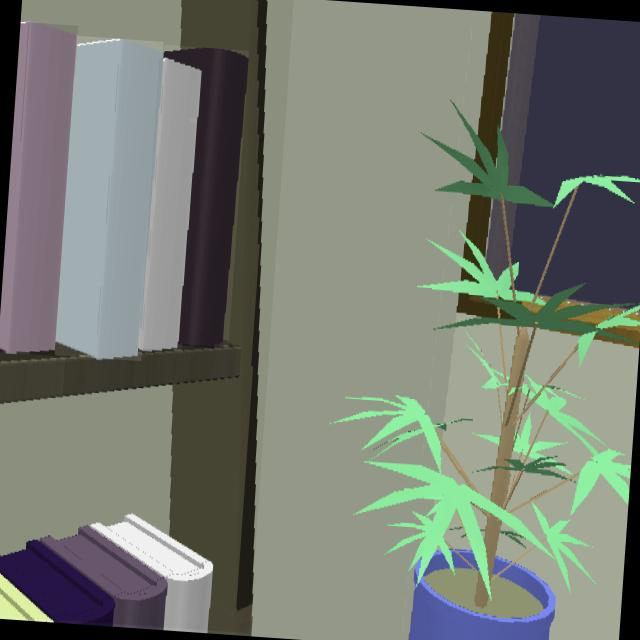book: (55, 39, 162, 358), (0, 22, 77, 352), (163, 49, 248, 345), (139, 60, 201, 349), (189, 118, 196, 123)
shelf: (0, 0, 267, 633)
